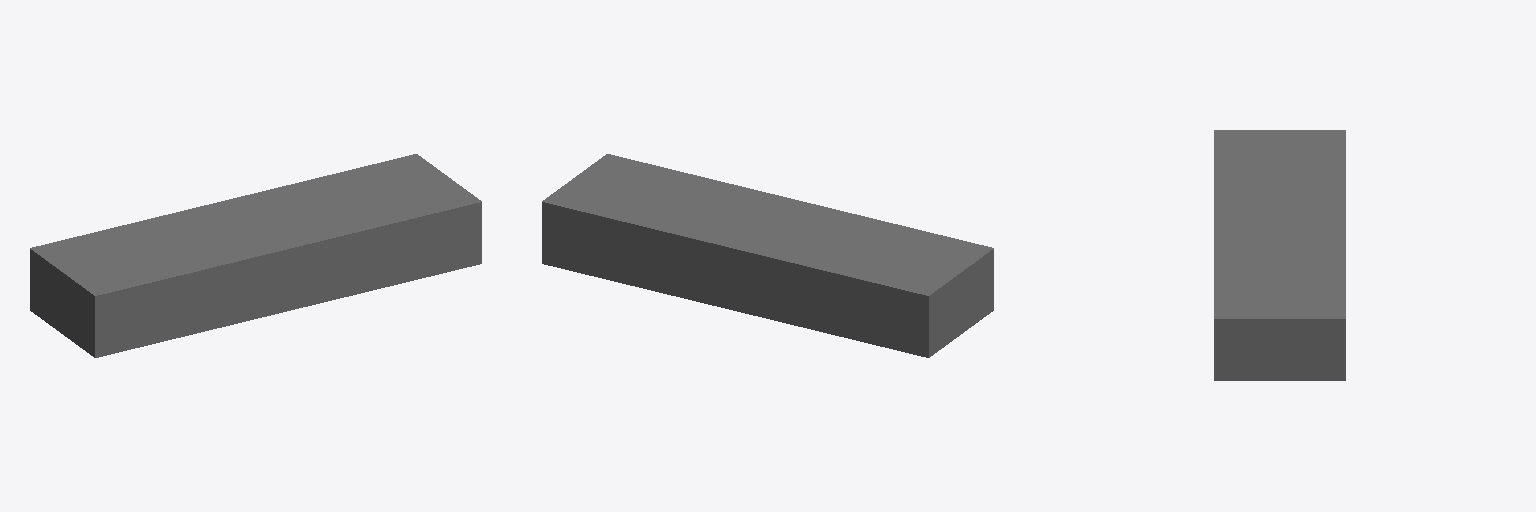
Rendered from hallway.obj.
The picture shows the model from 3 angles: view 1: azimuth 30°, elevation 25°; view 2: azimuth 150°, elevation 25°; view 3: azimuth 270°, elevation 25°; orthographic projection.
Visible parts, largest first — view 1: pCube1; view 2: pCube1; view 3: pCube1.
Part boxes in pixels (x1,y1,x2,y2): pCube1: (30,154,481,357); pCube1: (542,154,993,357); pCube1: (1214,130,1345,380).
Bounding box in the file's own units: 66.33 × 10.16 × 19.5.